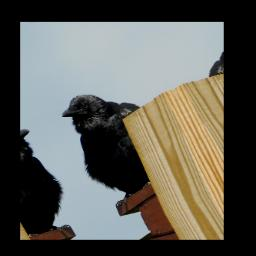Crow: (51, 75, 176, 212)
